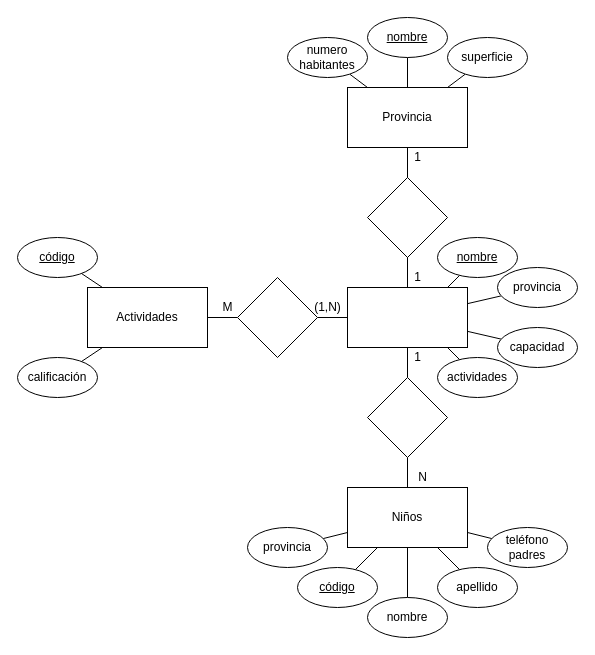
Image size: 595x655. Some labels were removed from this diagram. Each missing label, with the centre of its shape:
"alojan" belongs at (407,417).
"Campamento" belongs at (407,317).
"realiza" belongs at (277,317).
"situado" belongs at (407,217).
